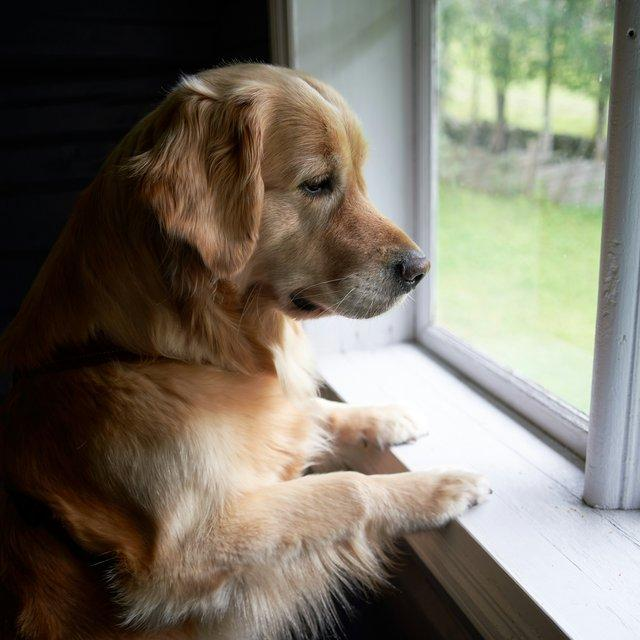retriever: (0, 60, 491, 638)
